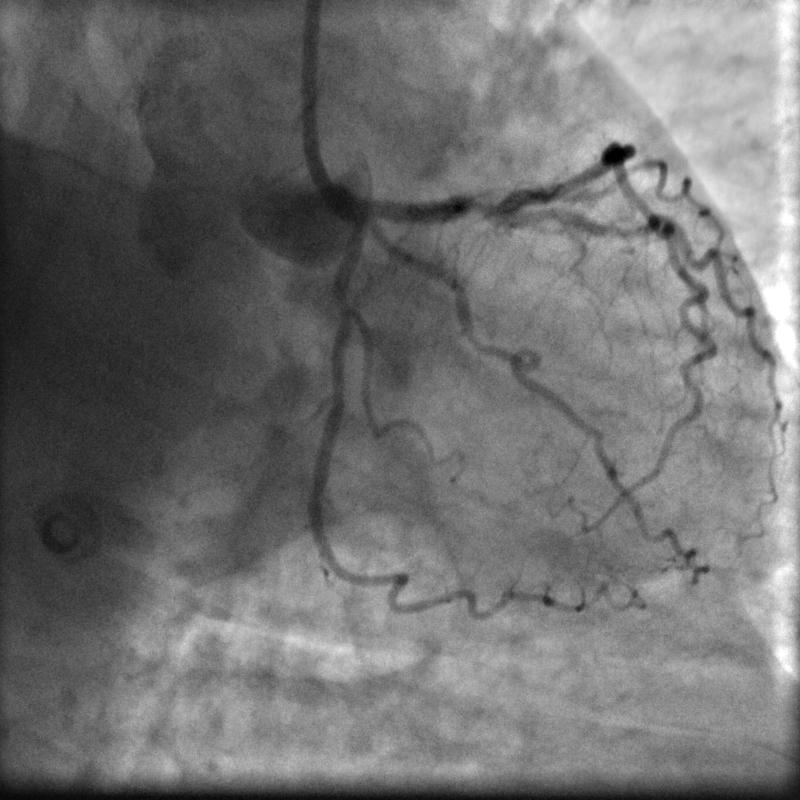Stenosis: (460, 190, 503, 223)
